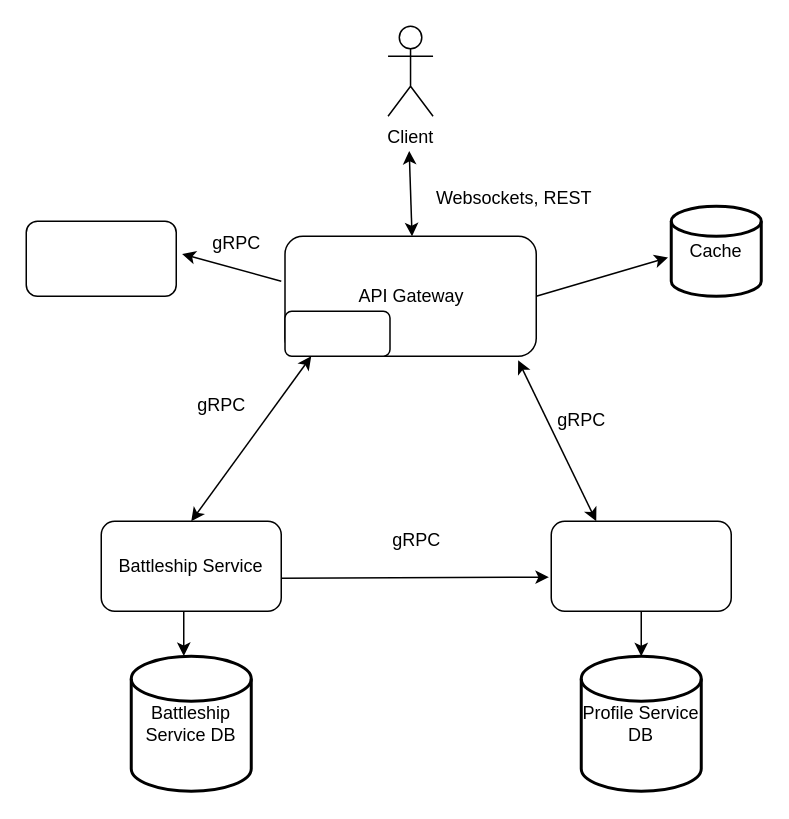
Image size: 789x819. Some labels were removed from this diagram. The box of each missing label's shape, as (x1, y1, x2, y2) in pixels:
Load Balancer: (284, 310, 390, 356)
Profile Service: (550, 520, 731, 611)
Service Discovery: (25, 220, 176, 296)
